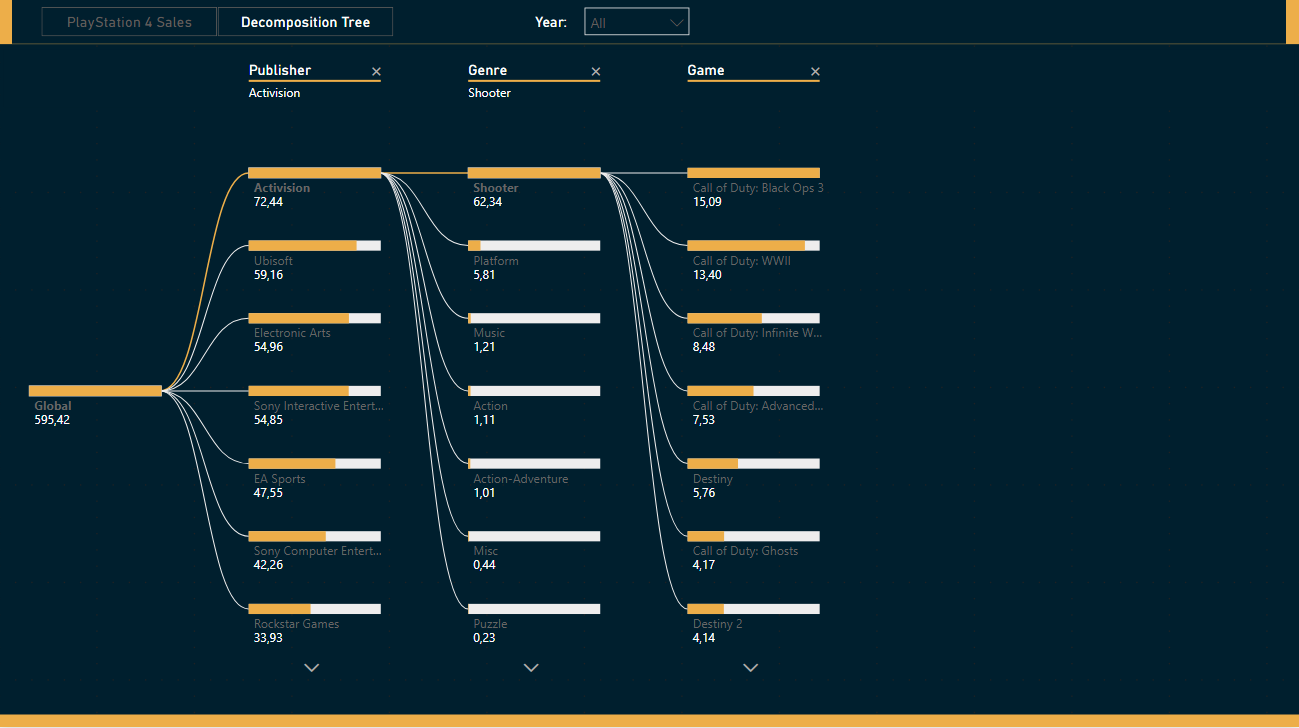

The page's visual inventory and layout, read from the dashboard file:
{"tool":"powerbi","page":{"name":"Decomposition Tree","canvas":[1280,720],"ordinal":1},"visuals":[{"type":"basicShape","box":[0,706.5,1280,13.5],"z":0},{"type":"basicShape","box":[0,0,1280,46.7],"z":1000},{"type":"pythonVisual","fields":{"Values":["PS4_GamesSales.Year","Sum(PS4_GamesSales.Global)"]},"box":[17.1,210.7,468.4,136.7],"z":2000},{"type":"actionButton","box":[215.3,10.2,173.1,29.1],"z":3000},{"type":"actionButton","box":[42.2,10.2,173.1,29.1],"z":5000},{"type":"slicer","fields":{"Values":["PS4_GamesSales.Year"]},"box":[566.4,0,123.6,48],"z":7000},{"type":"actionButton","box":[512,4.4,62.5,39.3],"z":9000},{"type":"decompositionTreeVisual","fields":{"ExplainBy":["PS4_GamesSales.Publisher","PS4_GamesSales.Genre","PS4_GamesSales.Game"],"Analyze":["Sum(PS4_GamesSales.Global)"]},"box":[0,46.5,1280,660.4],"z":17000}]}

Visuals, with their boxes in screenshot pixels (x1, y1, x2, y2), scaled from the page's 1280x720 canvas onto the 1299x728 screenshot:
basicShape: Rect(0, 714, 1298, 727)
basicShape: Rect(0, 0, 1298, 47)
pythonVisual - PS4_GamesSales.Year x Sum(PS4_GamesSales.Global): Rect(17, 213, 493, 351)
actionButton: Rect(218, 10, 394, 40)
actionButton: Rect(43, 10, 218, 40)
slicer - PS4_GamesSales.Year: Rect(575, 0, 700, 49)
actionButton: Rect(520, 4, 583, 44)
decompositionTreeVisual - PS4_GamesSales.Publisher x PS4_GamesSales.Genre: Rect(0, 47, 1298, 715)
